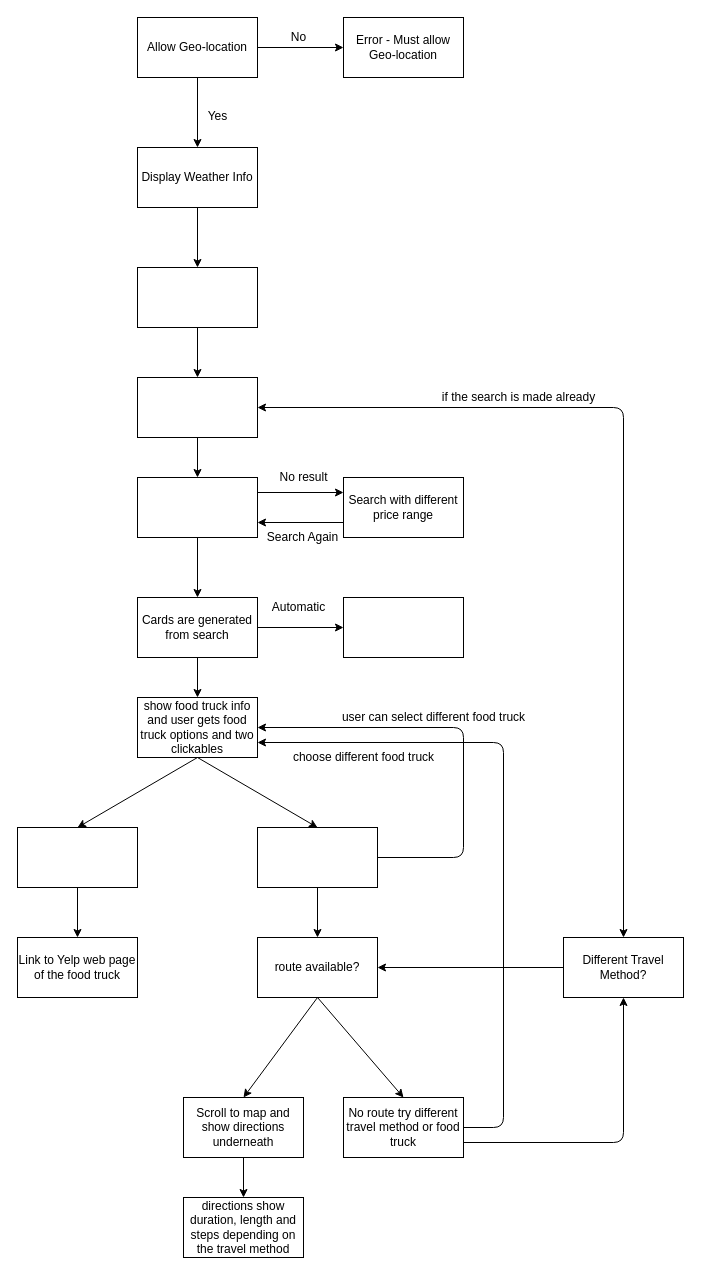
Image size: 701x1275. Some labels were removed from this diagram. The shapes that lost their labels are listed below. From the top down, each one's box as (x1, y1, x2, y2) in pixels, then its label:
(136, 266, 258, 328): Display Current Location on Map
(136, 376, 258, 438): User chooses travel method Default is driving
(136, 476, 258, 538): User chooses at least one price range
(342, 596, 464, 658): Marker for each food truck is shown on map with numeric label
(16, 826, 138, 888): More Info
(256, 826, 378, 888): Direction
